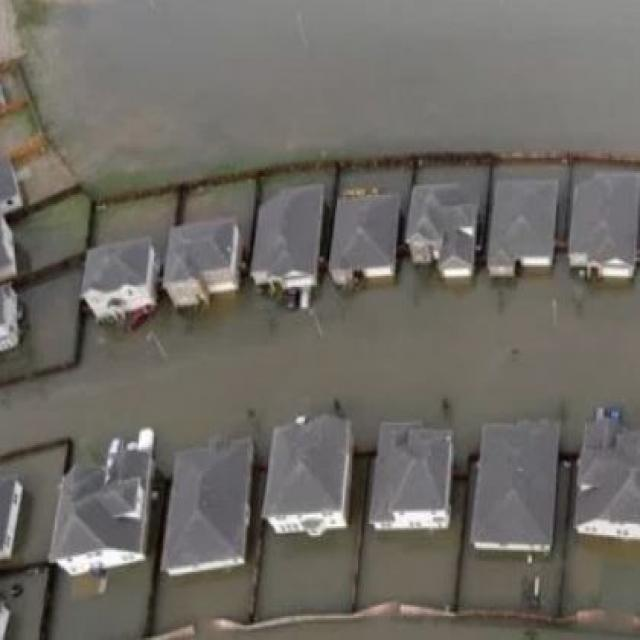flood: (0, 263, 640, 474), (18, 0, 640, 194), (362, 504, 461, 608), (0, 265, 80, 384), (196, 619, 640, 640), (46, 559, 153, 640), (259, 529, 354, 618), (0, 447, 64, 568), (152, 564, 253, 636), (8, 192, 90, 276), (462, 544, 561, 612), (96, 194, 176, 266), (571, 536, 640, 614), (184, 180, 254, 254), (0, 567, 48, 640), (265, 170, 333, 202)
house: (47, 424, 164, 616), (468, 416, 565, 568), (160, 433, 254, 586), (484, 161, 603, 271), (266, 404, 358, 536), (365, 421, 456, 536), (575, 404, 638, 554), (252, 178, 324, 298), (567, 166, 640, 282), (328, 172, 403, 282), (412, 165, 479, 282), (163, 216, 240, 296), (84, 239, 158, 318), (0, 154, 29, 280), (0, 474, 24, 566), (0, 282, 22, 356)
